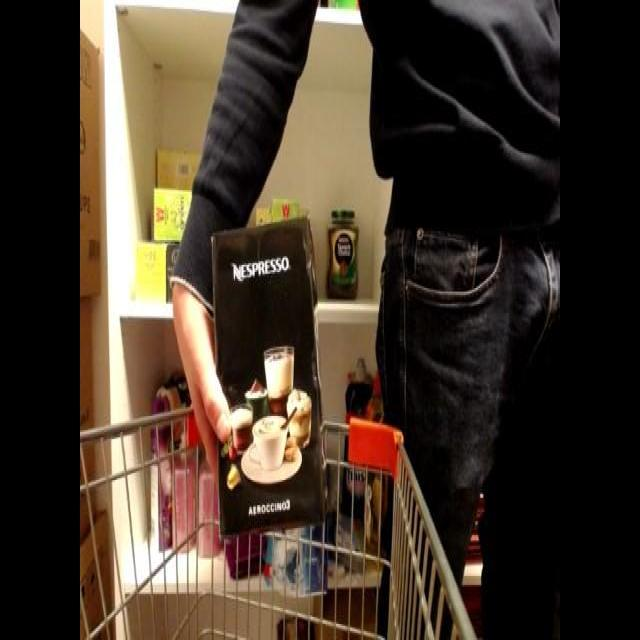Nespresso: (203, 200, 337, 552)
